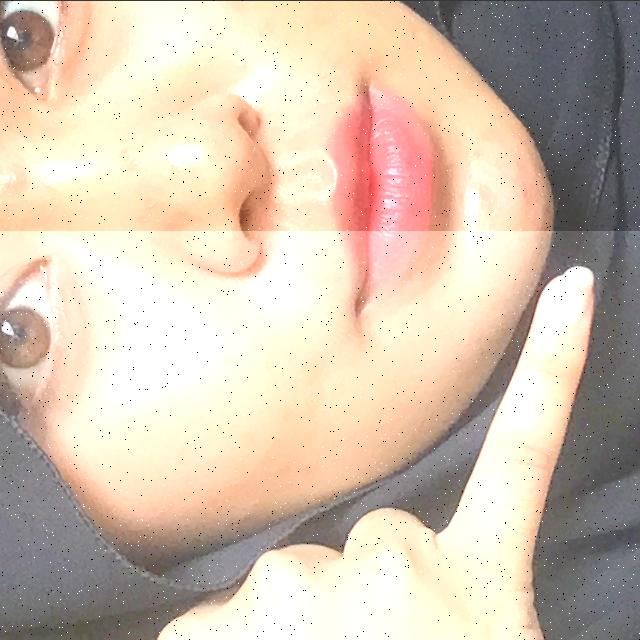telpon: (0, 230, 640, 640)
